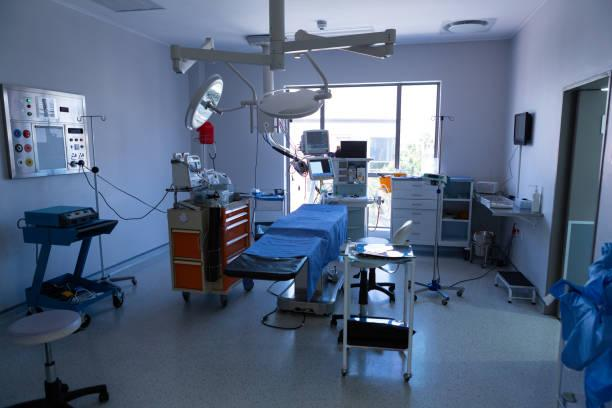Monitor: (297, 122, 333, 160)
bed: (229, 200, 350, 326)
stool: (6, 308, 109, 407), (484, 258, 540, 313)
tools_table: (334, 222, 431, 389)
